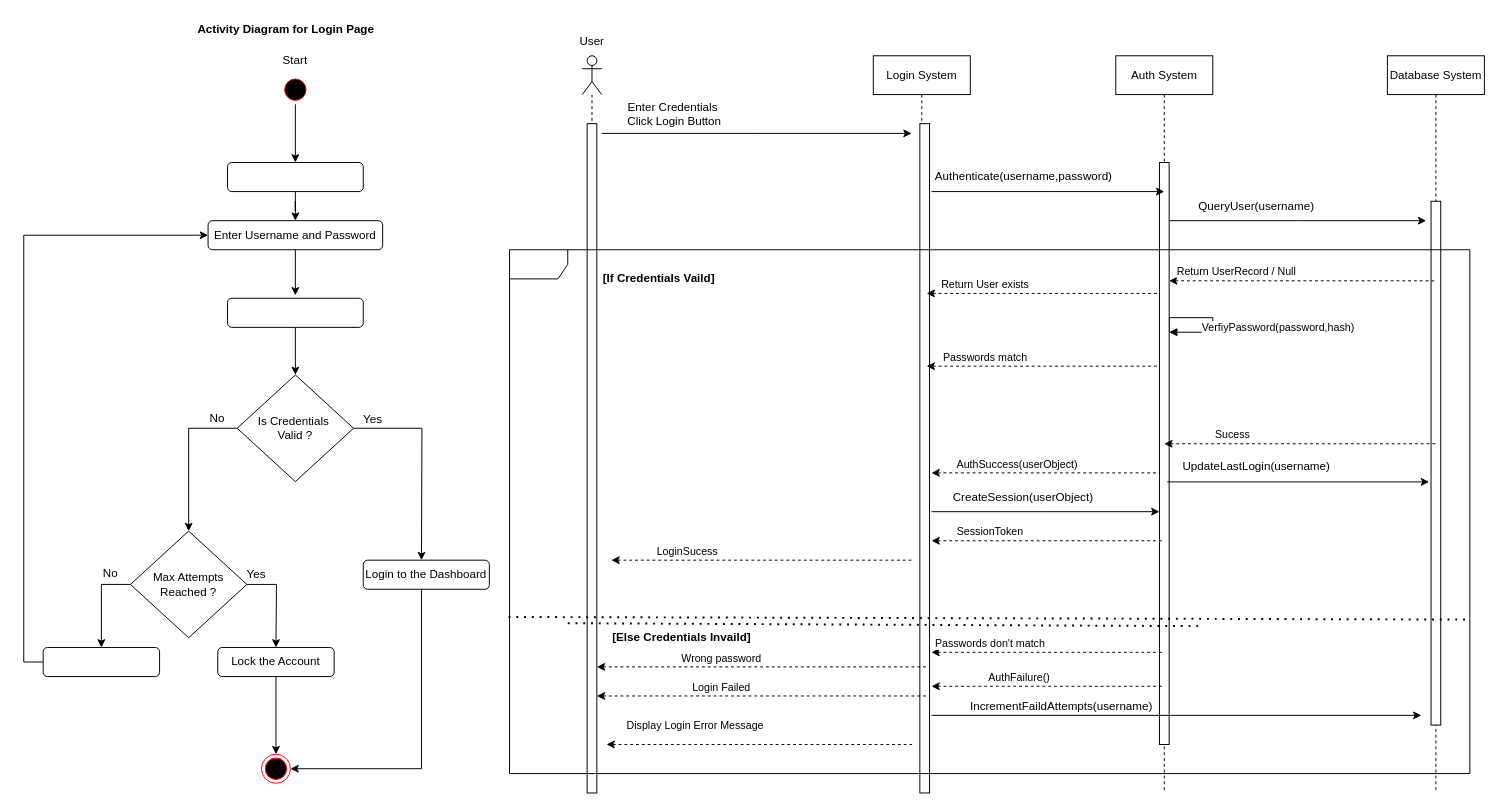
This 1502x810 diagram has some shape labels left out. Each missing label, with the box of its shape:
Alt: (509, 249, 1470, 774)
Click Login Button: (226, 297, 363, 327)
Show Error Message: (42, 647, 160, 677)
User Opens Login Page: (226, 162, 363, 192)
